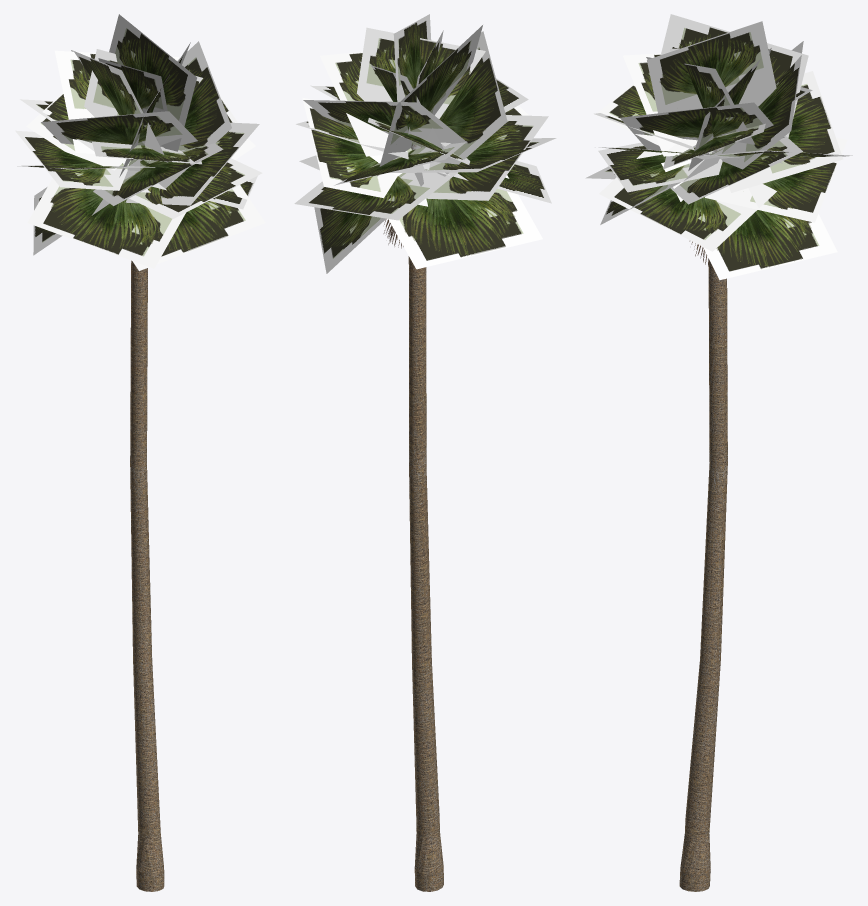
Rendered from CaliforniaFanPalm.dae.
The picture shows the model from 3 angles, left to right: view 1: azimuth 30°, elevation 25°; view 2: azimuth 150°, elevation 25°; view 3: azimuth 270°, elevation 25°; orthographic projection. The views are drawn at different scales.
Visible parts, largest first — view 1: group_3 (×17), group_1; view 2: group_3 (×17), group_1; view 3: group_3 (×17), group_1.
Boxes of the visible parts, x1,y1,x2,y2 form: group_3 (×17): [15, 14, 265, 270]; group_1: [130, 260, 164, 891]; group_3 (×17): [294, 14, 556, 273]; group_1: [408, 256, 443, 891]; group_3 (×17): [595, 14, 852, 279]; group_1: [679, 260, 727, 891].
Bounding box in the file's own units: 239 × 228 × 811.
